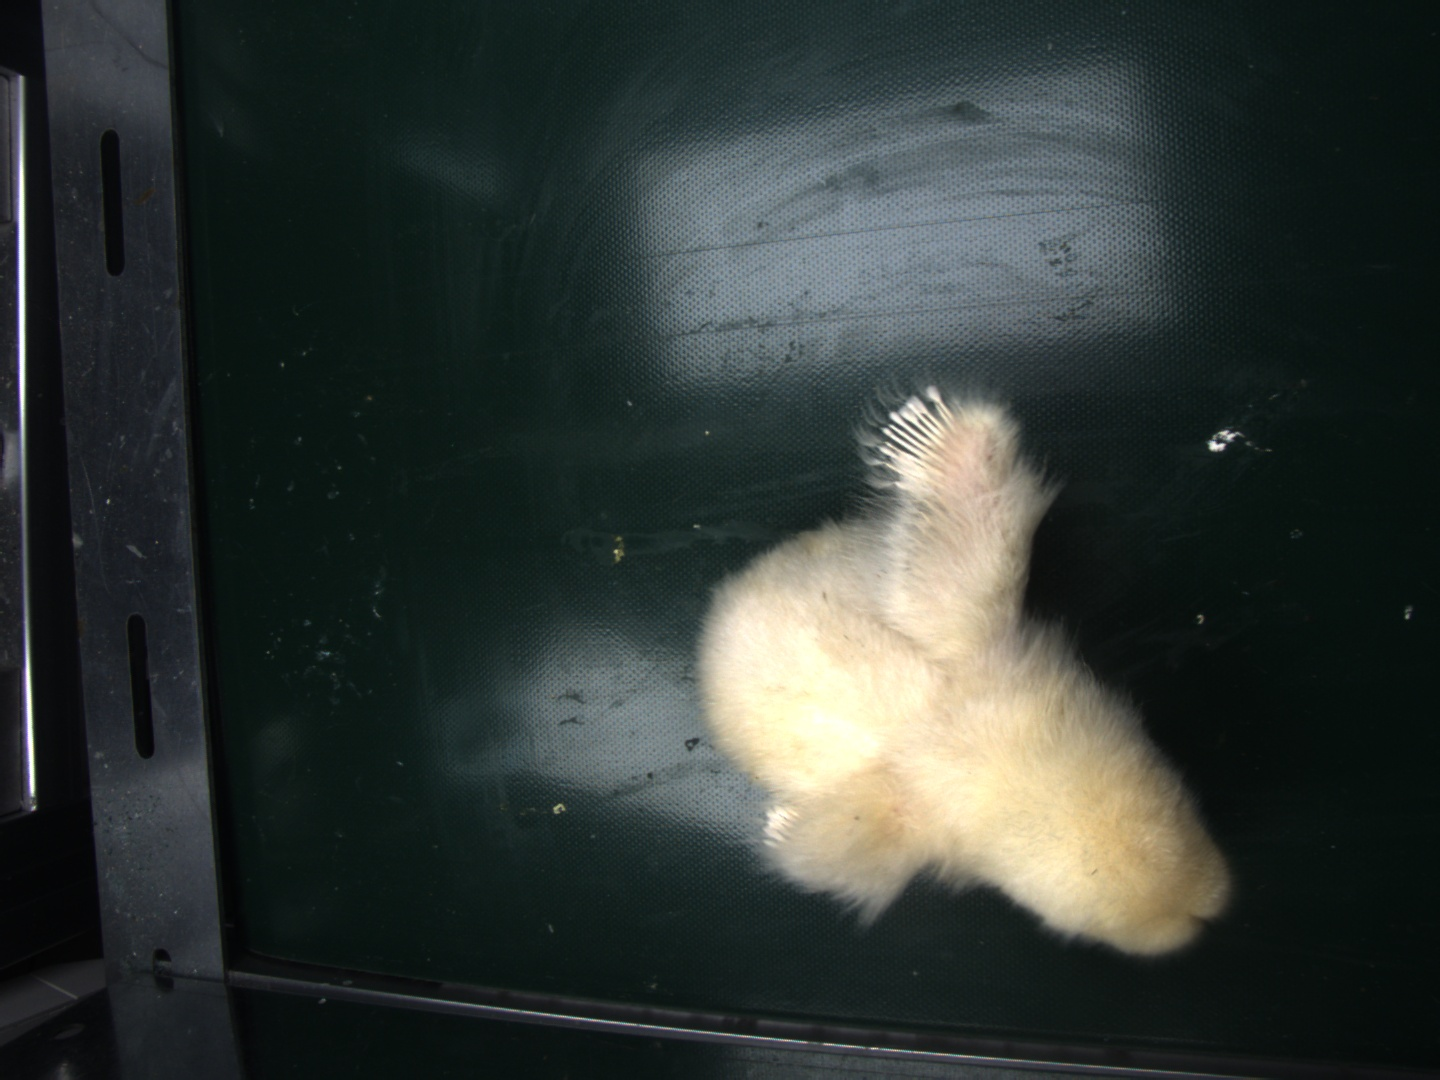male: (876, 386, 960, 482)
